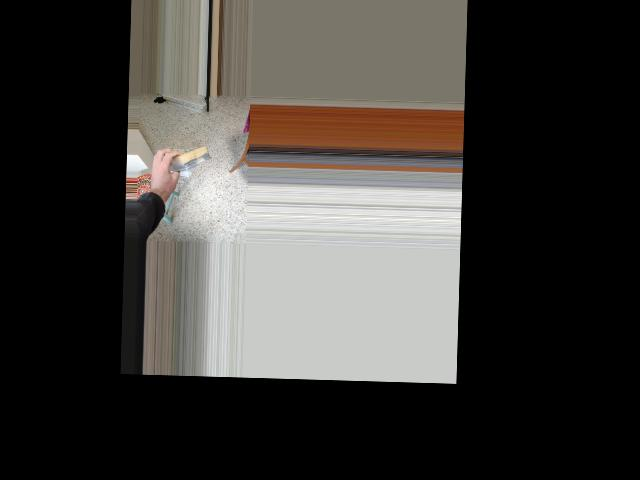cheese: (159, 140, 214, 177)
